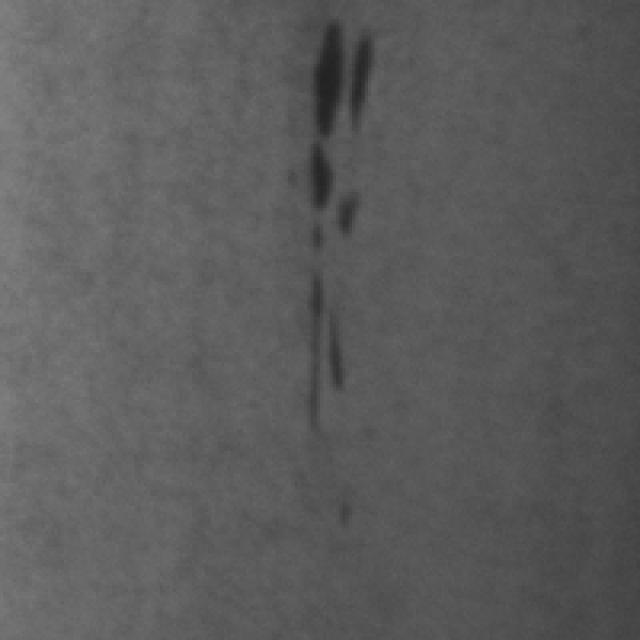inclusion: (289, 262, 352, 430), (308, 8, 364, 142), (298, 150, 366, 260), (322, 493, 358, 537)
